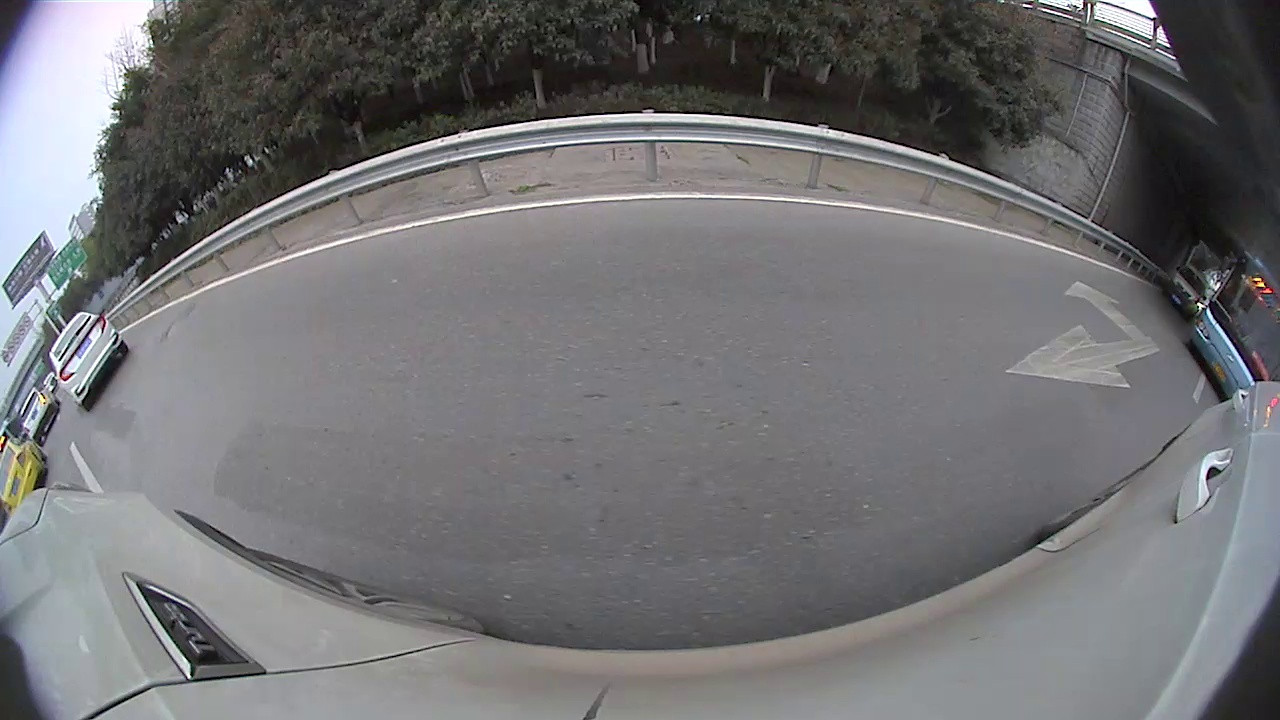bus: (14, 83, 224, 340)
car: (830, 67, 1022, 228), (1076, 247, 1162, 339)
front: (70, 299, 100, 335), (989, 202, 1011, 229)
rear: (899, 162, 931, 200)
